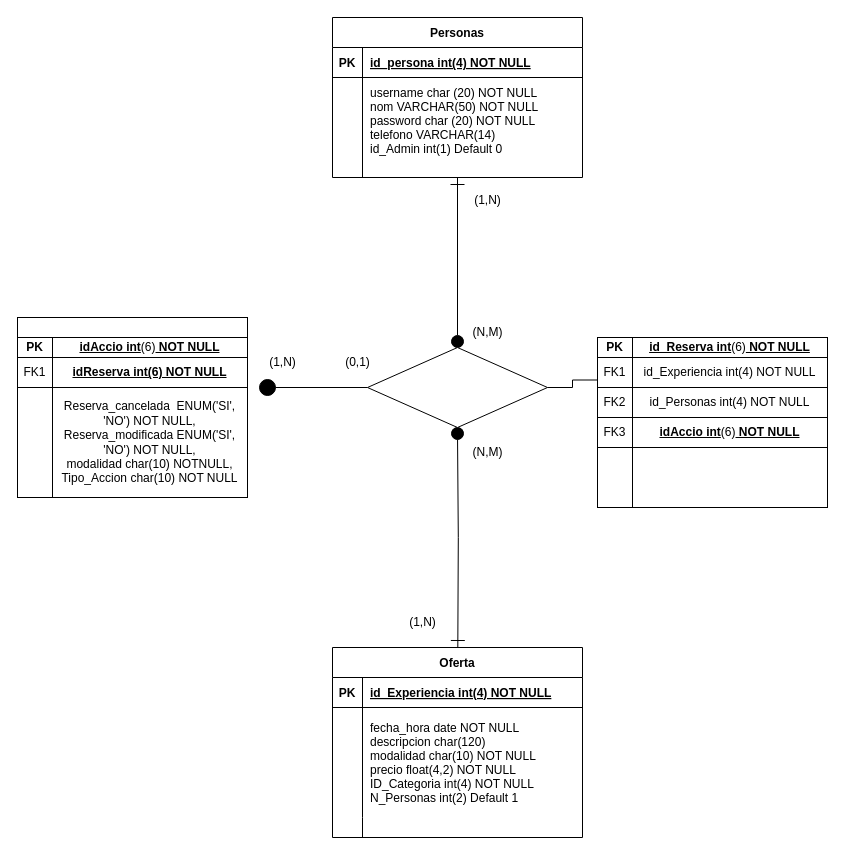
The diagram is 845 pixels wide and 855 high, and some of its shapes have lost their labels. The centre of each missing label's shape, as x and y in pixels:
"Accio" goes at (132,327).
"n_Personas int (2) Default 1 Fecha_hora date() DATE DEFAULT '0000-00-00'" goes at (730,477).
"Reserva" goes at (457,387).
